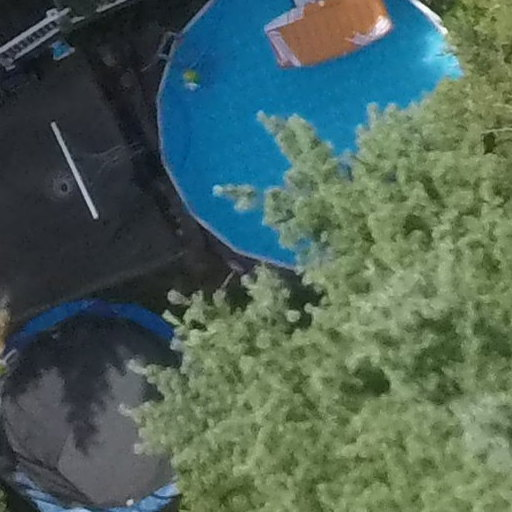basketball: (28, 125, 164, 233)
pool: (163, 1, 468, 294)
